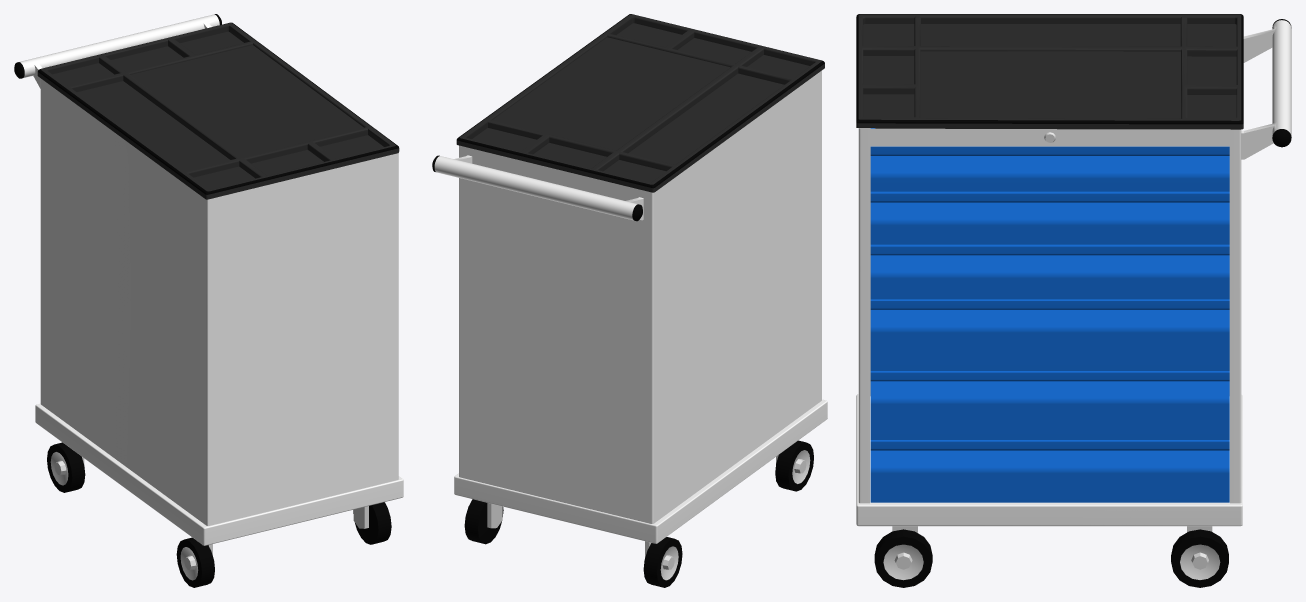
File: Cart.glb
3 views of the same model, side by side, from view 1: azimuth 30°, elevation 25°; view 2: azimuth 150°, elevation 25°; view 3: azimuth 270°, elevation 25° (orthographic). The views are drawn at different scales.
Parts seen in each view (by area): view 1: Cart; view 2: Cart; view 3: Cart.
Boxes of the visible parts, <box> form: Cart: <box>14,14,403,587</box>; Cart: <box>432,14,827,587</box>; Cart: <box>856,14,1291,587</box>.
Size of the model in its own units: 0.4343 by 0.8291 by 0.6996.
